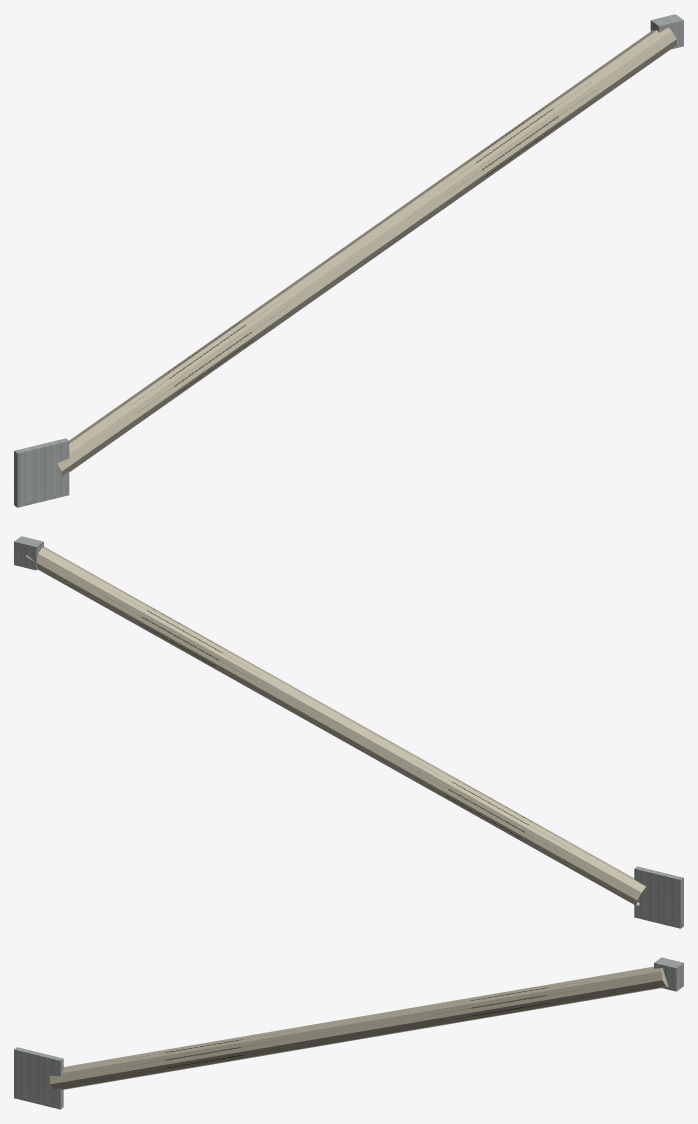
The model's file is brace_r.obj.
3 views of the same model, one above another, from view 1: azimuth 30°, elevation 25°; view 2: azimuth 150°, elevation 25°; view 3: azimuth 330°, elevation 25° (orthographic). The views are drawn at different scales.
Visible parts, largest first — view 1: crossarm_alley_fiberglass_6_r; view 2: crossarm_alley_fiberglass_6_r; view 3: crossarm_alley_fiberglass_6_r.
Part boxes in pixels (bbox=[...]): crossarm_alley_fiberglass_6_r: bbox=[14, 14, 683, 507]; crossarm_alley_fiberglass_6_r: bbox=[14, 536, 683, 928]; crossarm_alley_fiberglass_6_r: bbox=[14, 957, 683, 1109].
Bounding box in the file's own units: 4.23 × 1.67 × 0.487.
